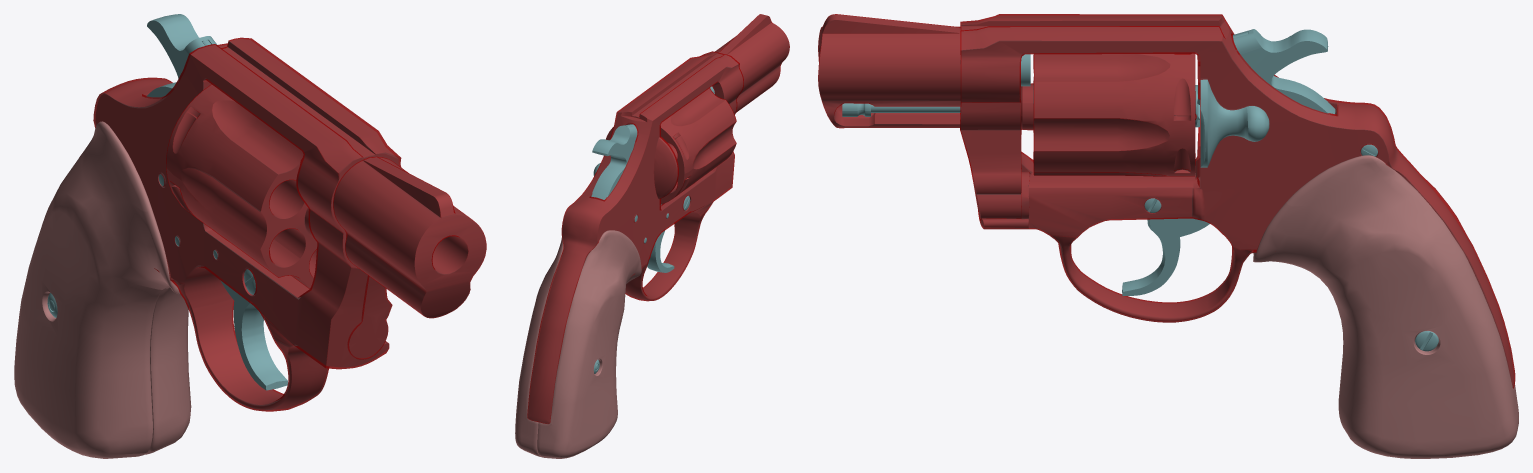
The model's file is gun.fbx.
The picture shows the model from 3 angles, left to right: view 1: azimuth 30°, elevation 25°; view 2: azimuth 150°, elevation 25°; view 3: azimuth 270°, elevation 25°; orthographic projection. The views are drawn at different scales.
Parts seen in each view (by area): view 1: reciever_cage, reciever_low, grip_right_low, cylinder_cage, cylinder_low, muzzle_cage, muzzle_low, grip_left_low, trigger_low, front_hinge_cage, body_low, front_hinge_low; view 2: reciever_cage, reciever_low, grip_right_low, cylinder_cage, cylinder_low, muzzle_cage, muzzle_low, grip_left_low, body_low, trigger_low; view 3: reciever_cage, grip_left_low, reciever_low, cylinder_cage, cylinder_low, muzzle_cage, muzzle_low, front_hinge_cage, front_hinge_low, body_low, cylinder_release_low, trigger_low.
Boxes of the visible parts, box(x1,y1,x2,y2) form: reciever_cage: box(93, 37, 401, 411); reciever_low: box(95, 39, 398, 409); grip_right_low: box(14, 121, 180, 458); cylinder_cage: box(166, 84, 317, 288); cylinder_low: box(166, 85, 316, 288); muzzle_cage: box(333, 156, 486, 318); muzzle_low: box(333, 157, 485, 317); grip_left_low: box(145, 286, 191, 454); trigger_low: box(220, 280, 287, 390); front_hinge_cage: box(348, 276, 392, 359); body_low: box(146, 14, 217, 98); front_hinge_low: box(349, 277, 390, 358); reciever_cage: box(527, 51, 743, 423); reciever_low: box(528, 52, 742, 423); grip_right_low: box(537, 230, 641, 458); cylinder_cage: box(603, 88, 736, 204); cylinder_low: box(606, 89, 735, 203); muzzle_cage: box(715, 14, 789, 112); muzzle_low: box(715, 14, 789, 111); grip_left_low: box(515, 236, 563, 456); body_low: box(591, 124, 637, 199); trigger_low: box(647, 230, 674, 272); reciever_cage: box(960, 14, 1515, 388); grip_left_low: box(1253, 155, 1518, 458); reciever_low: box(961, 16, 1513, 386); cylinder_cage: box(1021, 53, 1196, 176); cylinder_low: box(1021, 54, 1195, 175); muzzle_cage: box(818, 14, 961, 128); muzzle_low: box(818, 15, 960, 127); front_hinge_cage: box(960, 87, 1021, 220); front_hinge_low: box(961, 102, 1020, 218); body_low: box(1233, 29, 1336, 114); cylinder_release_low: box(1200, 79, 1269, 167); trigger_low: box(1122, 218, 1210, 295).
Bounding box in the file's own units: 1.9 × 6.35 × 9.43.
